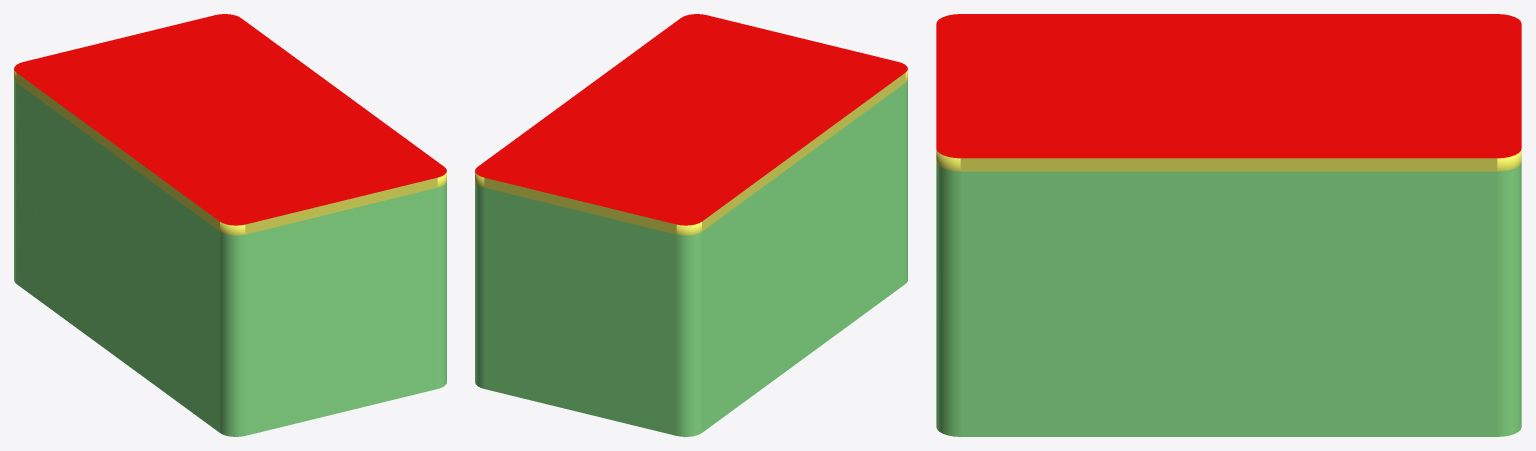
Rendered from utilitytile2.fbx.
The picture shows the model from 3 angles, left to right: view 1: azimuth 30°, elevation 25°; view 2: azimuth 150°, elevation 25°; view 3: azimuth 270°, elevation 25°; orthographic projection. The views are drawn at different scales.
Parts seen in each view (by area): view 1: _(Loose Entity); view 2: _(Loose Entity); view 3: _(Loose Entity).
Boxes of the visible parts, x1,y1,x2,y2 form: _(Loose Entity): [14, 14, 446, 436]; _(Loose Entity): [475, 14, 907, 436]; _(Loose Entity): [936, 14, 1521, 436].
Bounding box in the file's own units: 700 × 630 × 1200.
